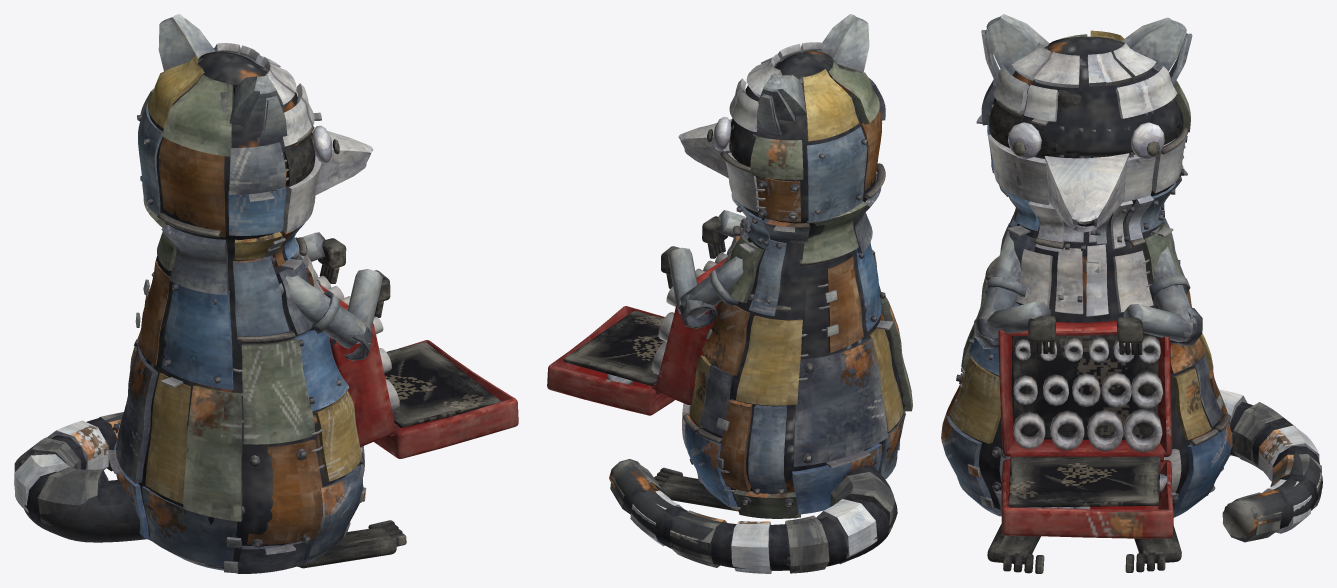
3 renders of one model, left to right at view 1: azimuth 30°, elevation 25°; view 2: azimuth 150°, elevation 25°; view 3: azimuth 270°, elevation 25°, orthographic. The views are drawn at different scales.
Parts seen in each view (by area): view 1: PanelsOLIVE, PanelsBLUEGREY, PanelsRUST, PanelsGUNMETAL, PanelsPAINTED, Body, PanelsBRASS, Case, Foam, TailCore, Ears, Arms (+13 smaller); view 2: PanelsGUNMETAL, Body, PanelsBLUEGREY, PanelsBRASS, PanelsRUST, PanelsOLIVE, TailCore, Case, PanelsPAINTED, TailDark, Foam, TailLight (+13 smaller); view 3: PanelsENAMEL, Foam, Body, Case, Sockets, Arms, PanelsTIN, PanelsBRASS, Ears, Snout, TailCore, PanelsPAINTED (+16 smaller).
Boxes of the visible parts, x1=… form: PanelsOLIVE: x1=140, y1=74, x2=315, y2=521; PanelsBLUEGREY: x1=125, y1=102, x2=363, y2=570; PanelsRUST: x1=138, y1=137, x2=325, y2=544; PanelsGUNMETAL: x1=116, y1=142, x2=312, y2=573; PanelsPAINTED: x1=114, y1=187, x2=349, y2=540; Body: x1=138, y1=52, x2=357, y2=568; PanelsBRASS: x1=130, y1=55, x2=361, y2=503; Case: x1=320, y1=284, x2=518, y2=458; Foam: x1=384, y1=342, x2=501, y2=427; TailCore: x1=21, y1=415, x2=146, y2=542; Ears: x1=158, y1=14, x2=287, y2=146; Arms: x1=279, y1=232, x2=382, y2=348; PanelsGUNMETAL: x1=699, y1=77, x2=887, y2=466; Body: x1=689, y1=51, x2=904, y2=504; PanelsBLUEGREY: x1=737, y1=126, x2=905, y2=493; PanelsBRASS: x1=689, y1=69, x2=903, y2=431; PanelsRUST: x1=702, y1=109, x2=882, y2=491; PanelsOLIVE: x1=728, y1=60, x2=912, y2=518; TailCore: x1=609, y1=459, x2=897, y2=570; Case: x1=547, y1=257, x2=726, y2=415; PanelsPAINTED: x1=685, y1=242, x2=882, y2=514; TailDark: x1=610, y1=463, x2=894, y2=573; Foam: x1=563, y1=311, x2=664, y2=386; TailLight: x1=630, y1=490, x2=877, y2=573; PanelsENAMEL: x1=987, y1=43, x2=1186, y2=482; Foam: x1=1008, y1=333, x2=1160, y2=507; Body: x1=961, y1=36, x2=1219, y2=509; Case: x1=998, y1=320, x2=1173, y2=538; Sockets: x1=1013, y1=335, x2=1167, y2=509; Arms: x1=978, y1=231, x2=1196, y2=342; PanelsTIN: x1=1016, y1=247, x2=1181, y2=492; PanelsBRASS: x1=949, y1=30, x2=1213, y2=443; Ears: x1=981, y1=14, x2=1192, y2=86; Snout: x1=1044, y1=153, x2=1129, y2=232; TailCore: x1=1222, y1=402, x2=1322, y2=538; PanelsPAINTED: x1=969, y1=125, x2=1232, y2=517.
Size of the model in its own units: 2.73 by 3.38 by 2.39.
Materials: 32 (32 with a texture image).
